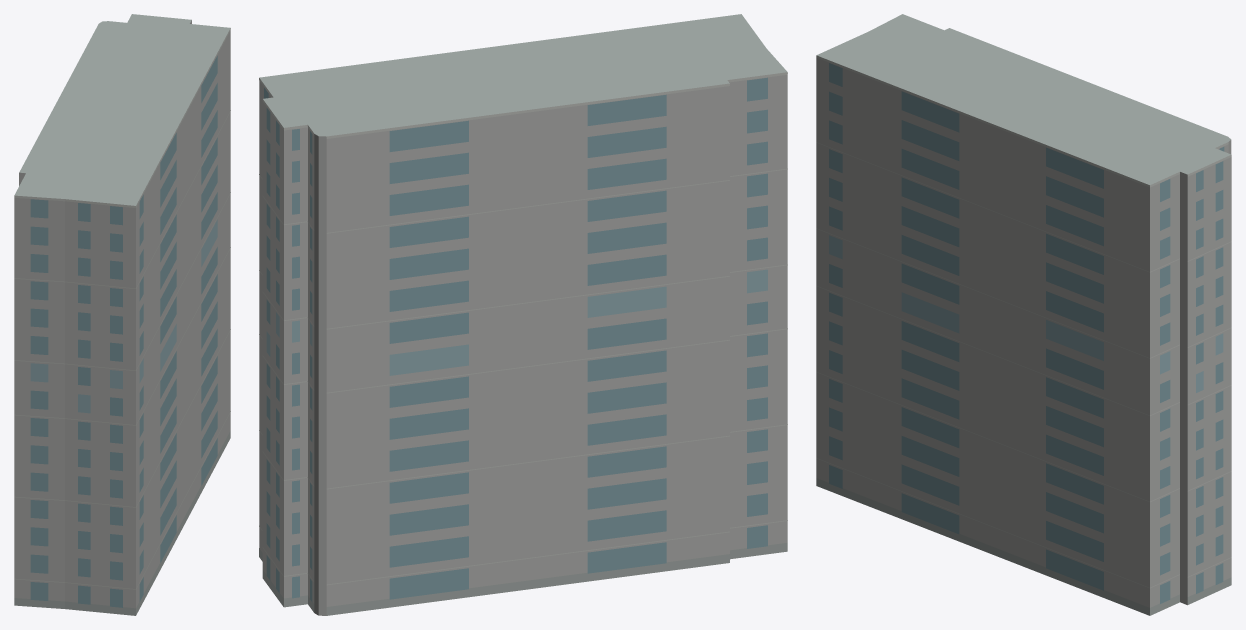
The model's file is survey-upis-32544141.glb.
3 renders of one model, left to right at view 1: azimuth 30°, elevation 25°; view 2: azimuth 150°, elevation 25°; view 3: azimuth 270°, elevation 25°, orthographic. The views are drawn at different scales.
Visible parts, largest first — view 1: survey-upis-32544141.tmp; view 2: survey-upis-32544141.tmp; view 3: survey-upis-32544141.tmp.
Part boxes in pixels (<box>): survey-upis-32544141.tmp: <box>14,14,230,615</box>; survey-upis-32544141.tmp: <box>259,14,787,615</box>; survey-upis-32544141.tmp: <box>816,14,1231,615</box>.
Bounding box in the file's own units: 38.75 × 45.4 × 39.7.
